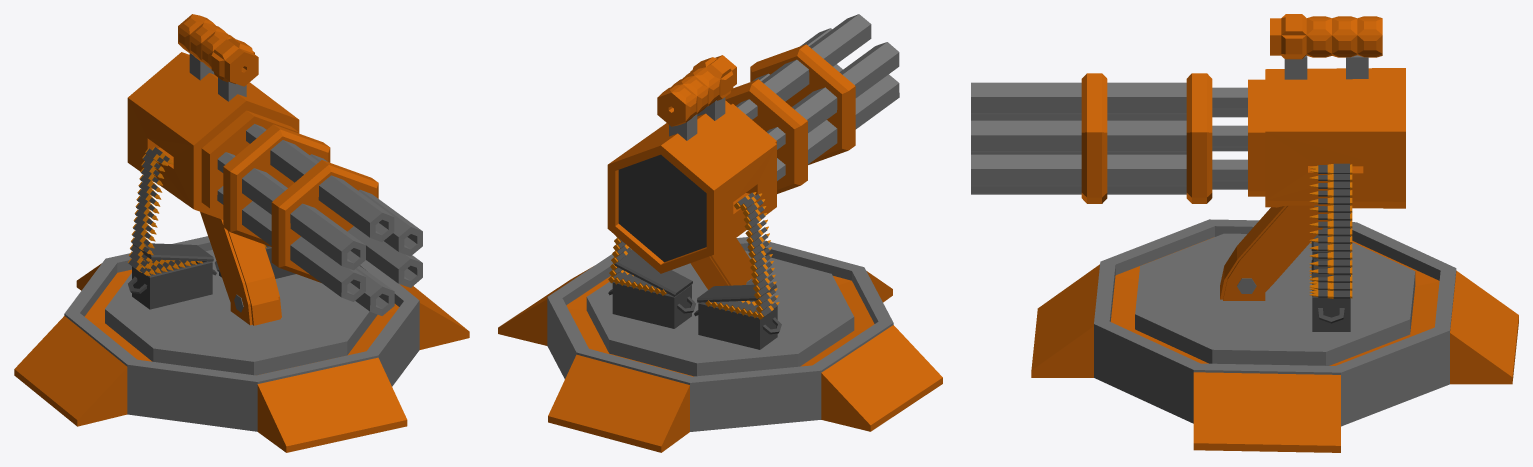
Rendered from tower_pulse.glb.
The picture shows the model from 3 angles, left to right: view 1: azimuth 30°, elevation 25°; view 2: azimuth 150°, elevation 25°; view 3: azimuth 270°, elevation 25°; orthographic projection. The views are drawn at different scales.
Parts seen in each view (by area): view 1: LaserSightGatelingGunTurret; view 2: LaserSightGatelingGunTurret; view 3: LaserSightGatelingGunTurret.
Part boxes in pixels (bbox=[...]): LaserSightGatelingGunTurret: bbox=[14, 14, 469, 452]; LaserSightGatelingGunTurret: bbox=[498, 14, 942, 452]; LaserSightGatelingGunTurret: bbox=[971, 14, 1518, 452].
Size of the model in its own units: 3.25 by 2.46 by 3.66.
Materials: 1 (1 with a texture image).
